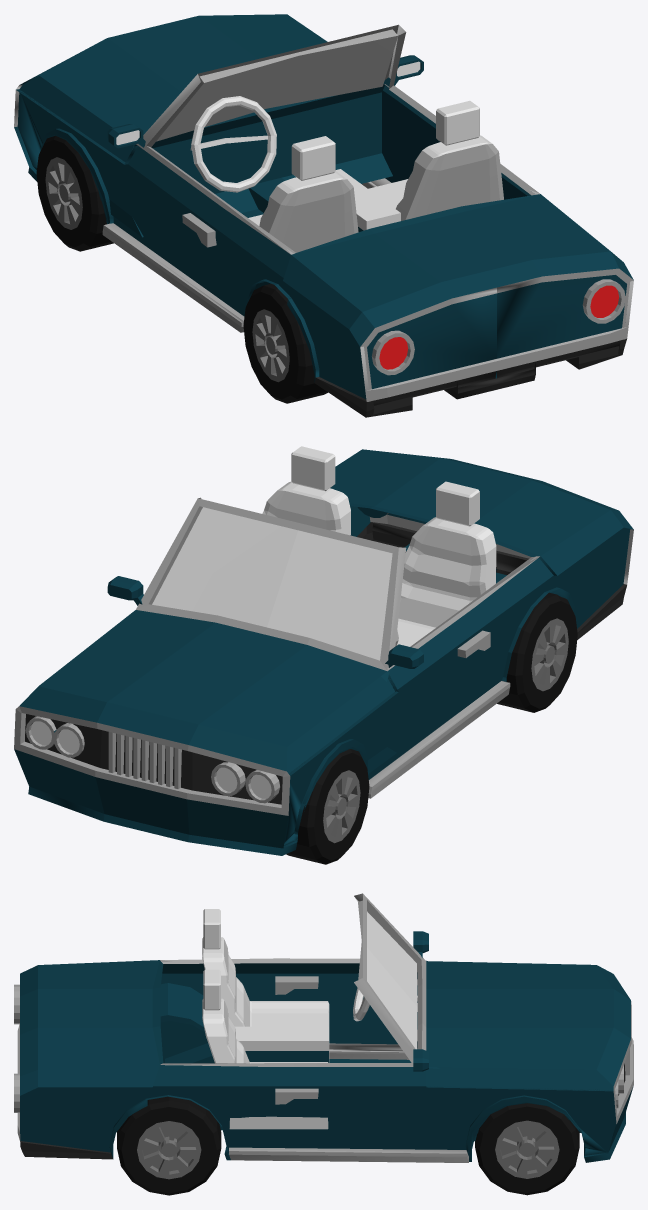
The model's file is Car.fbx.
3 renders of one model, top to bottom at view 1: azimuth 30°, elevation 25°; view 2: azimuth 150°, elevation 25°; view 3: azimuth 270°, elevation 25°, orthographic. The views are drawn at different scales.
Visible parts, largest first — view 1: Cube, Cube.006, Cube.004, Wheel2.002, Cube.001, Wheel2.003, Torus.001, Cube.002, Cube.003; view 2: Cube, Cube.001, Wheel2.002, Wheel2.003, Cube.004, Grill, Cube.003, Cube.002; view 3: Cube, Wheel2, Wheel2.001, Cube.001, Cube.006, Cube.004, Cube.003, Cube.002.
Boxes of the visible parts, x1=… form: Cube: x1=14, y1=14, x2=633, y2=417; Cube.006: x1=109, y1=83, x2=400, y2=237; Cube.004: x1=368, y1=135, x2=503, y2=220; Wheel2.002: x1=243, y1=283, x2=327, y2=403; Cube.001: x1=248, y1=171, x2=358, y2=252; Wheel2.003: x1=36, y1=135, x2=113, y2=251; Torus.001: x1=190, y1=96, x2=276, y2=192; Cube.002: x1=291, y1=136, x2=335, y2=180; Cube.003: x1=436, y1=100, x2=479, y2=145; Cube: x1=14, y1=449, x2=633, y2=855; Cube.001: x1=397, y1=517, x2=496, y2=646; Wheel2.002: x1=497, y1=592, x2=577, y2=712; Wheel2.003: x1=286, y1=749, x2=369, y2=864; Cube.004: x1=262, y1=481, x2=350, y2=535; Grill: x1=108, y1=732, x2=181, y2=788; Cube.003: x1=291, y1=446, x2=335, y2=491; Cube.002: x1=436, y1=481, x2=479, y2=526; Cube: x1=14, y1=893, x2=633, y2=1162; Wheel2: x1=117, y1=1096, x2=221, y2=1195; Wheel2.001: x1=475, y1=1103, x2=579, y2=1195; Cube.001: x1=202, y1=937, x2=329, y2=1062; Cube.006: x1=165, y1=960, x2=476, y2=1141; Cube.004: x1=202, y1=998, x2=328, y2=1129; Cube.003: x1=203, y1=969, x2=220, y2=1010; Cube.002: x1=203, y1=909, x2=220, y2=949.
Size of the model in its own units: 189 by 137 by 380.
